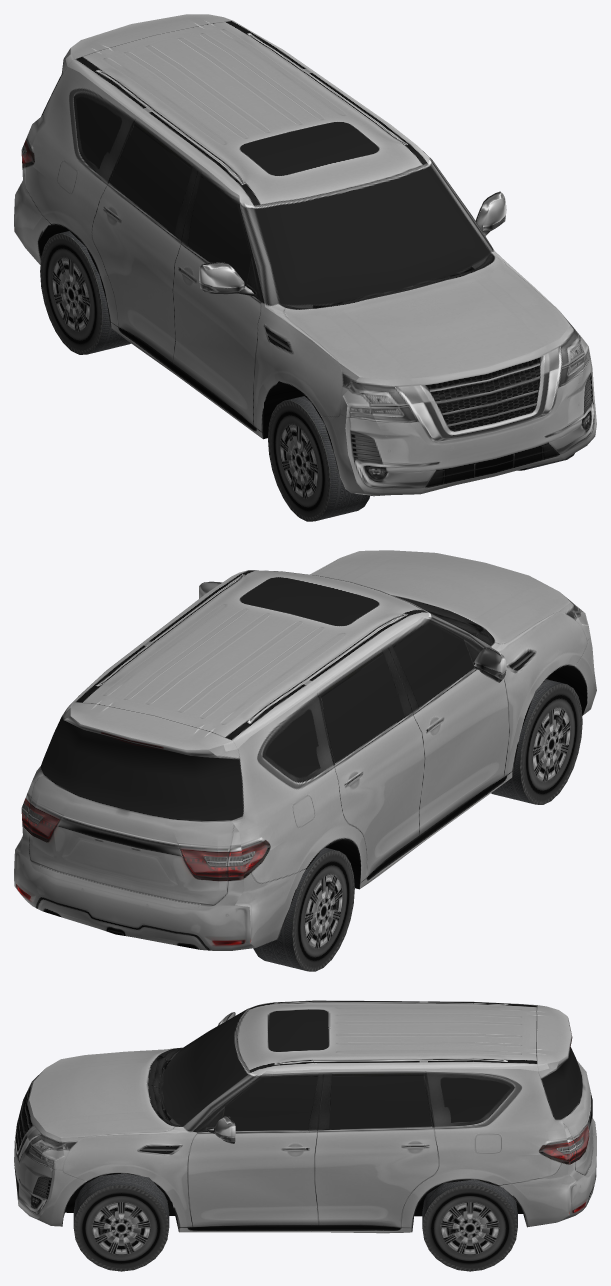
Rendered from car 10.fbx.
3 views of the same model, one above another, from view 1: azimuth 30°, elevation 25°; view 2: azimuth 150°, elevation 25°; view 3: azimuth 270°, elevation 25° (orthographic). The views are drawn at different scales.
Visible parts, largest first — view 1: body, L_tyer, B_L_tyer; view 2: body, B_L_tyer, L_tyer; view 3: body, R_tyer, B_R_tyer.
Part boxes in pixels (x1,y1,x2,y2): body: (14, 14, 596, 496); L_tyer: (268, 396, 369, 521); B_L_tyer: (40, 231, 130, 354); body: (14, 550, 596, 950); B_L_tyer: (253, 847, 354, 971); L_tyer: (491, 679, 582, 804); body: (14, 1000, 596, 1233); R_tyer: (73, 1173, 169, 1271); B_R_tyer: (422, 1179, 517, 1271).
Size of the model in its own units: 803 by 646 by 1743.
Materials: 2 (2 with a texture image).
